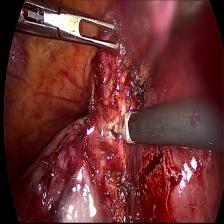Grasper: (34, 3, 132, 52)
Hook: (107, 115, 132, 145)
